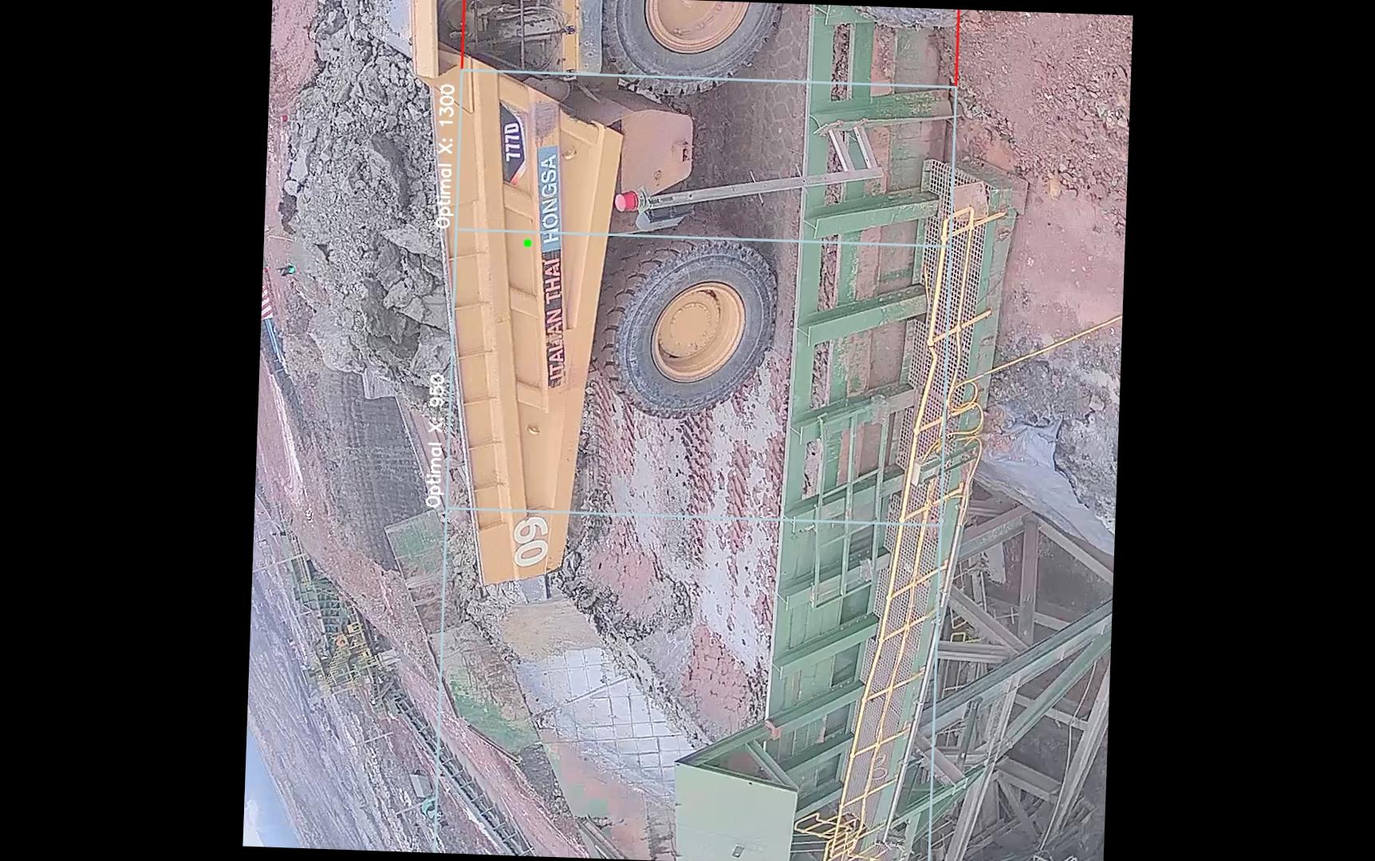company: (514, 134, 582, 399)
full_load: (269, 31, 454, 412)
mining_truck: (255, 0, 799, 596)
tail_number: (506, 508, 559, 570)
truck_size: (491, 96, 530, 190)
